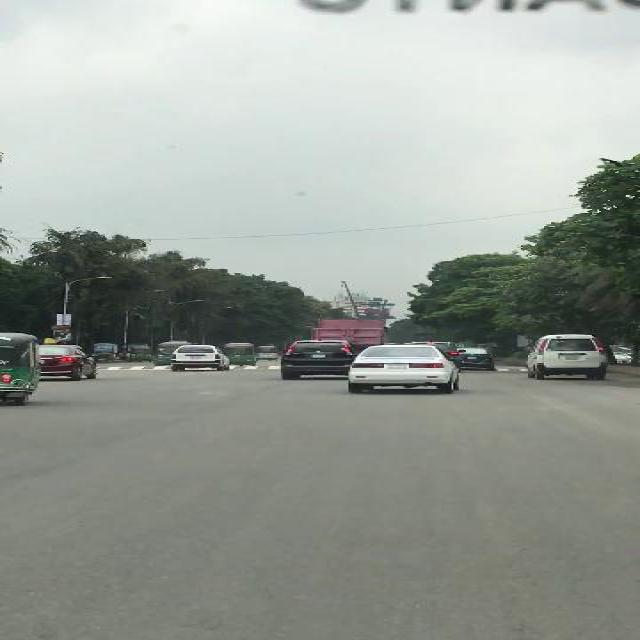car: (348, 346, 442, 394), (279, 339, 356, 378), (37, 343, 98, 380), (169, 344, 220, 370), (460, 345, 494, 370)
motorcycle: (15, 331, 38, 404), (222, 342, 256, 365), (128, 345, 153, 360), (256, 345, 277, 360)
truck: (523, 332, 608, 379), (308, 316, 386, 343)
